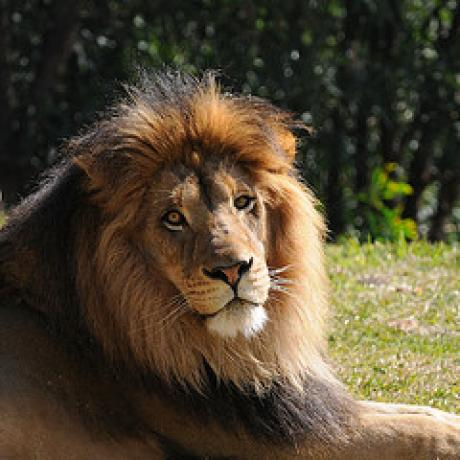Lion: (1, 79, 459, 460)
